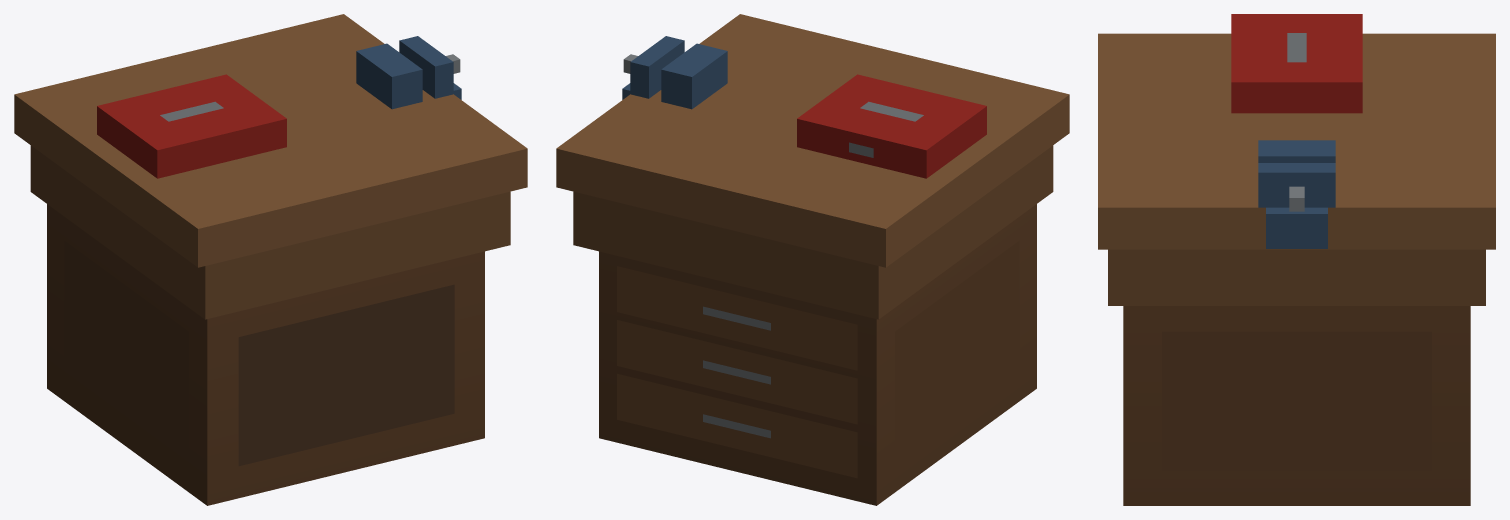
Rendered from table.workbench.oak.glb.
3 views of the same model, side by side, from view 1: azimuth 30°, elevation 25°; view 2: azimuth 150°, elevation 25°; view 3: azimuth 270°, elevation 25° (orthographic). The views are drawn at different scales.
Parts seen in each view (by area): view 1: table_workbench_oak; view 2: table_workbench_oak; view 3: table_workbench_oak.
Part boxes in pixels (x1,y1,x2,y2): table_workbench_oak: [14, 14, 527, 505]; table_workbench_oak: [556, 14, 1069, 505]; table_workbench_oak: [1098, 14, 1495, 505].
Size of what is drawn, in the model's own units: 1.14 by 1 by 1.03.
